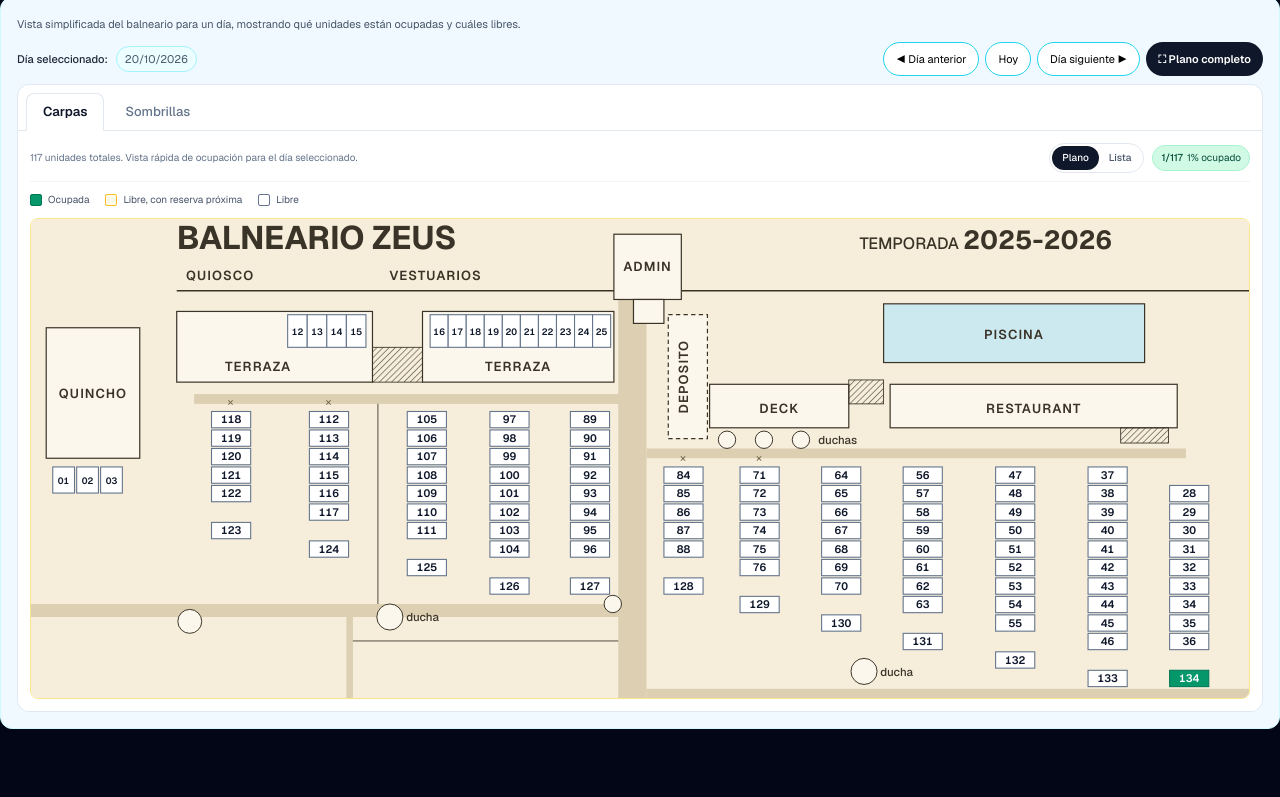
Test: Vista rapida con el plano › se puede pasar a la lista, que tambien sale del plano
The image size is (1280, 797).
Click the button "Lista" at [1120, 158], box [1099,146,1141,170]
(page scrolled)
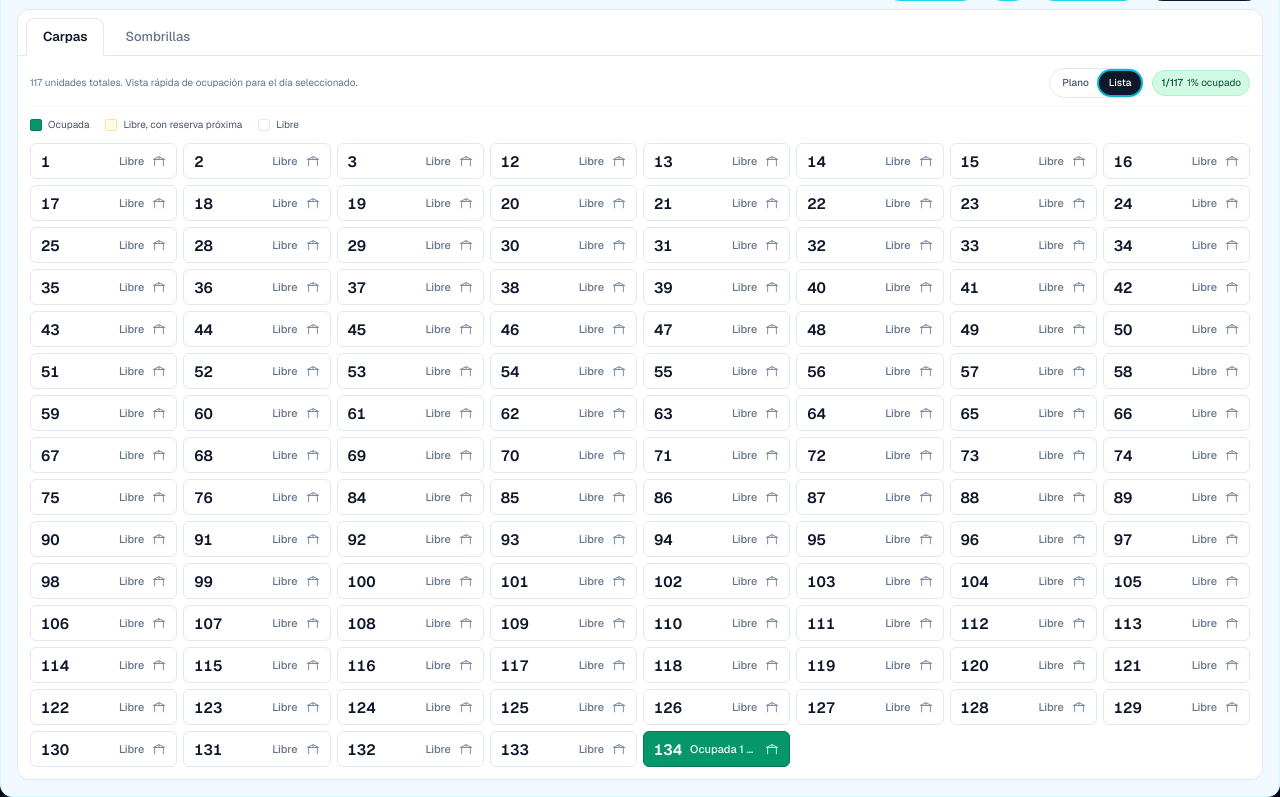
Check: the button with aria-label "Carpa 134 - Ocupada" is shown, box [643,731,790,767]
